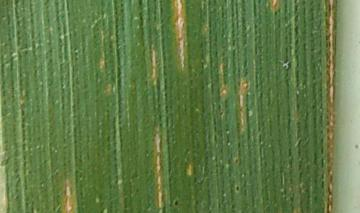tarspot: (171, 196, 181, 208), (232, 184, 242, 194)
